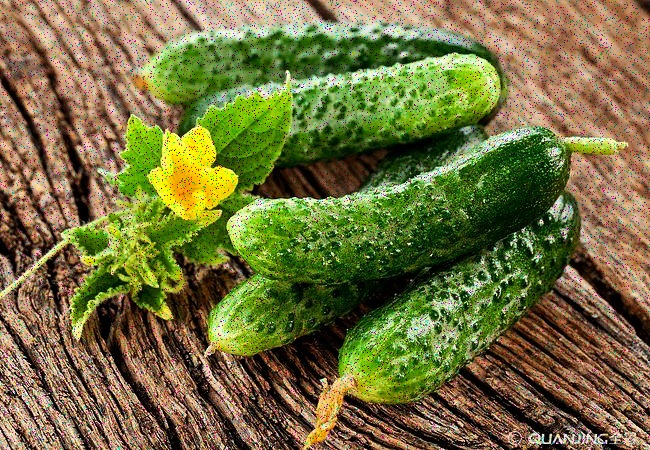cucumber: (353, 189, 577, 393), (234, 137, 562, 276)
cucumber_plant: (77, 73, 288, 313)
